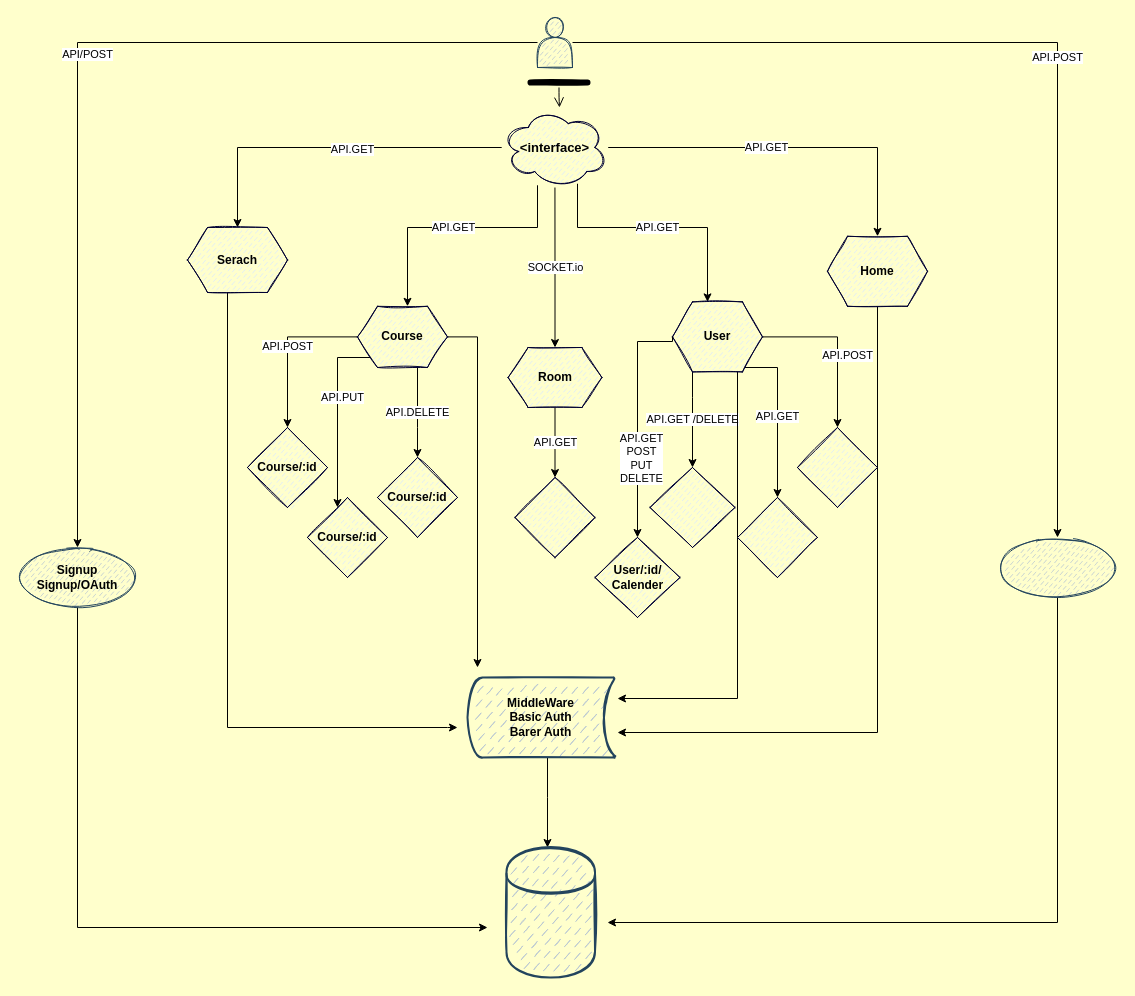
Image size: 1135x996. Some labels were removed from this diagram. Here are the shapes that lost their labels. From the top down, the box of each, then its label:
(796, 426, 878, 508): User/:id
(514, 476, 595, 558): Room/:id
(649, 466, 735, 548): User/:id/ Course/:id
(736, 496, 818, 578): User/:id/ course
(996, 536, 1118, 598): Signin
(505, 846, 596, 978): DataBase
